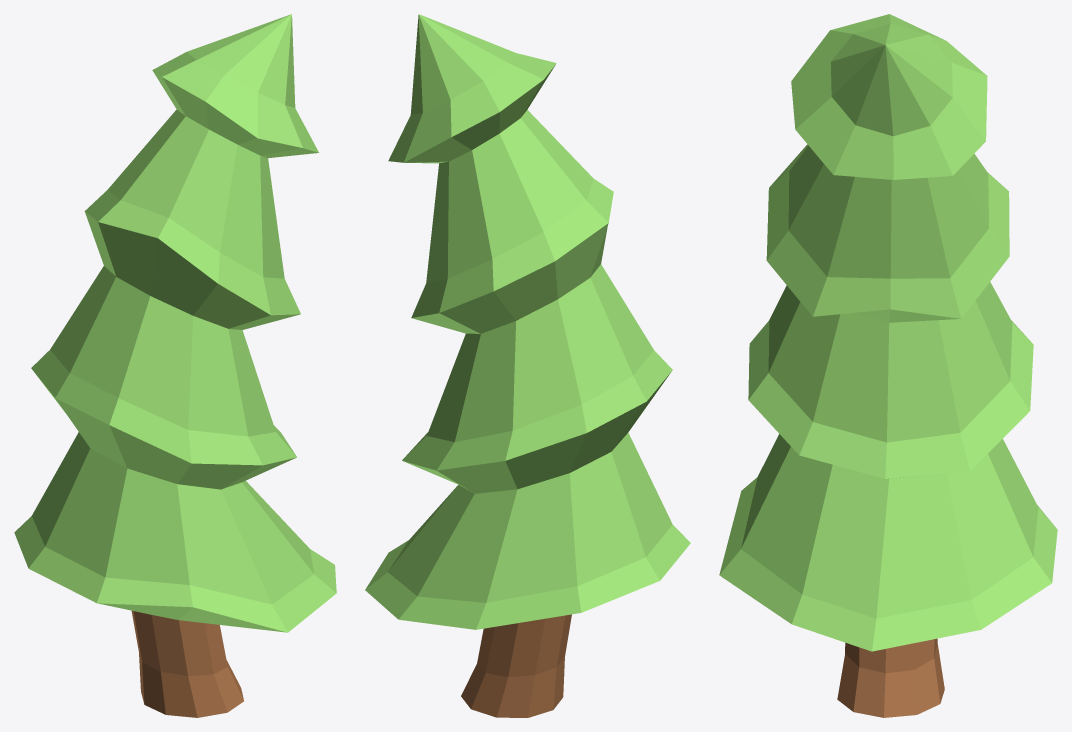
File: Tree3Rot.fbx
3 views of the same model, side by side, from view 1: azimuth 30°, elevation 25°; view 2: azimuth 150°, elevation 25°; view 3: azimuth 270°, elevation 25° (orthographic). The views are drawn at different scales.
Parts seen in each view (by area): view 1: Tree3Rot; view 2: Tree3Rot; view 3: Tree3Rot.
Boxes of the visible parts, x1,y1,x2,y2 form: Tree3Rot: (14, 14, 336, 717); Tree3Rot: (365, 14, 690, 717); Tree3Rot: (719, 14, 1057, 717).
Size of the model in its own units: 277 by 603 by 264.
